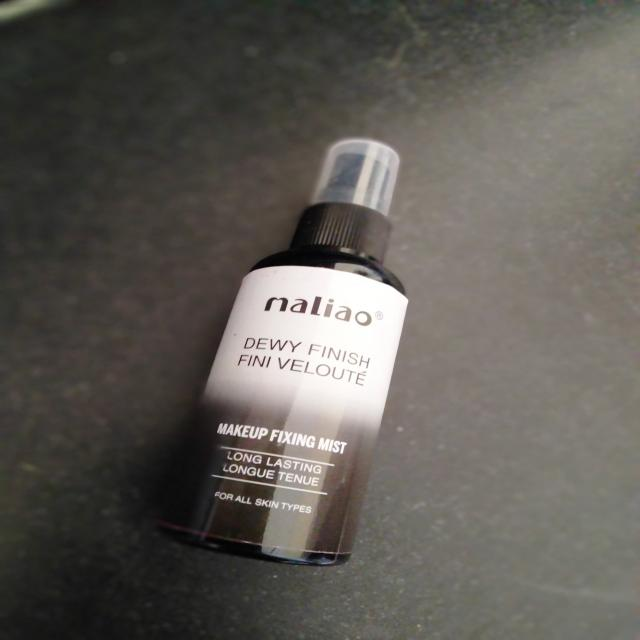setting spray: (132, 115, 420, 571)
